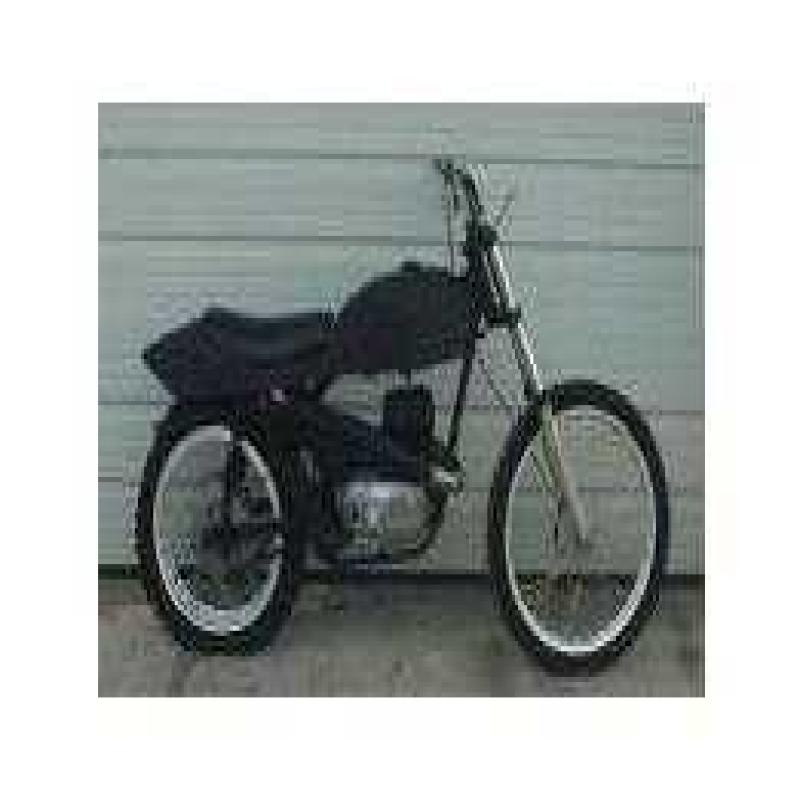bike: (94, 115, 692, 697)
